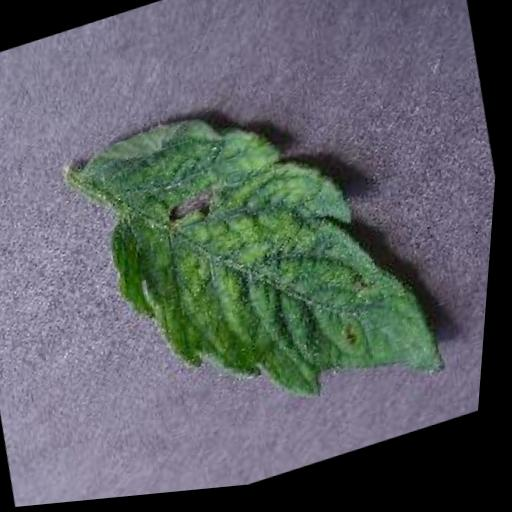Mosaic Virus: (56, 49, 472, 492)
